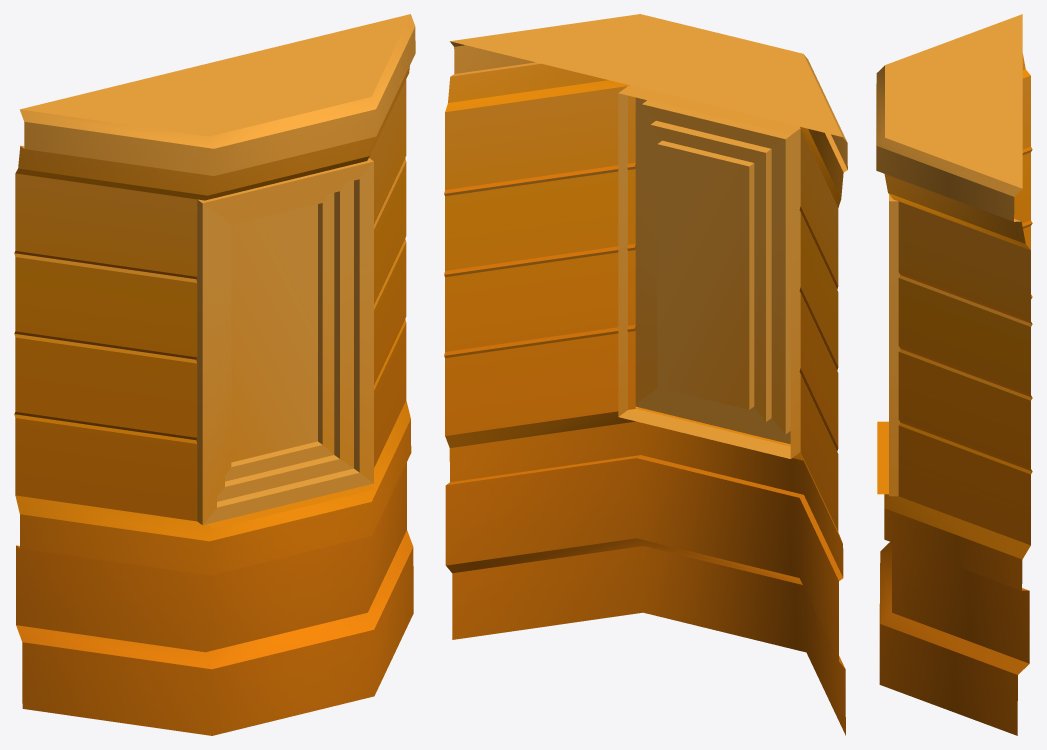
The model's file is Pillar 03.fbx.
3 renders of one model, left to right at view 1: azimuth 30°, elevation 25°; view 2: azimuth 150°, elevation 25°; view 3: azimuth 270°, elevation 25°, orthographic. The views are drawn at different scales.
Visible parts, largest first — view 1: Pillar 03; view 2: Pillar 03; view 3: Pillar 03.
Part boxes in pixels (box(x1,y1,x2,y2)): Pillar 03: box(14, 14, 415, 735); Pillar 03: box(444, 14, 847, 735); Pillar 03: box(876, 14, 1032, 735).
Bounding box in the file's own units: 200 × 292 × 75.66.
